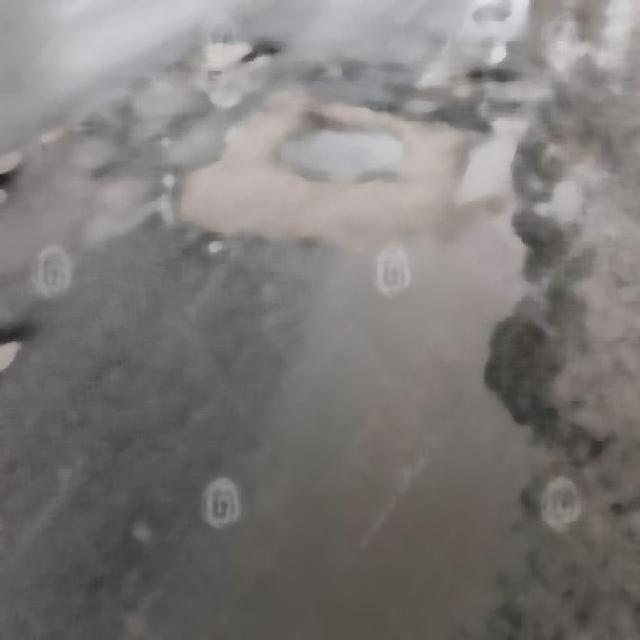Pothole: (287, 113, 404, 185)
